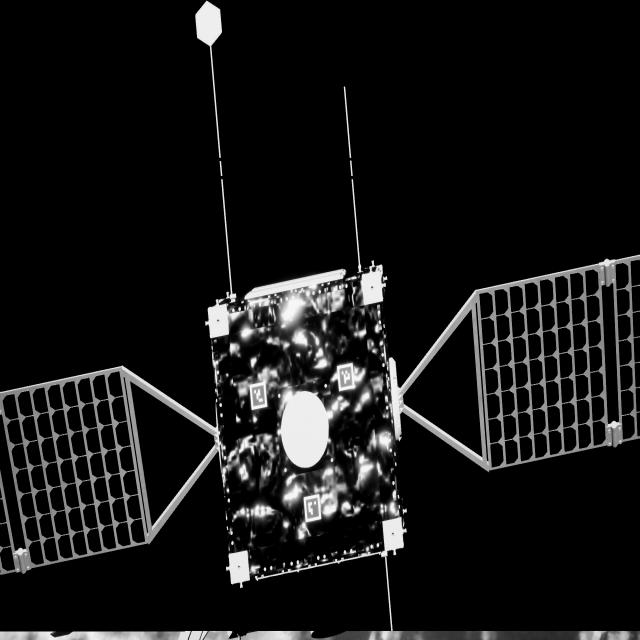satellite: (0, 256, 640, 580)
